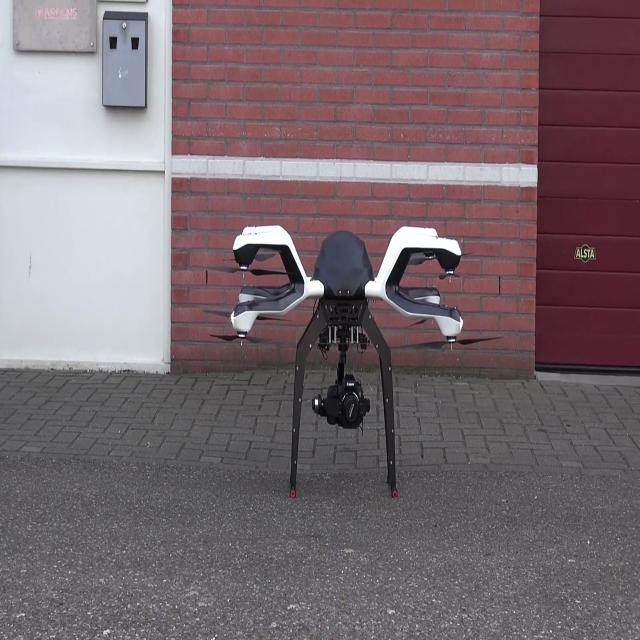drone: (218, 187, 476, 486)
